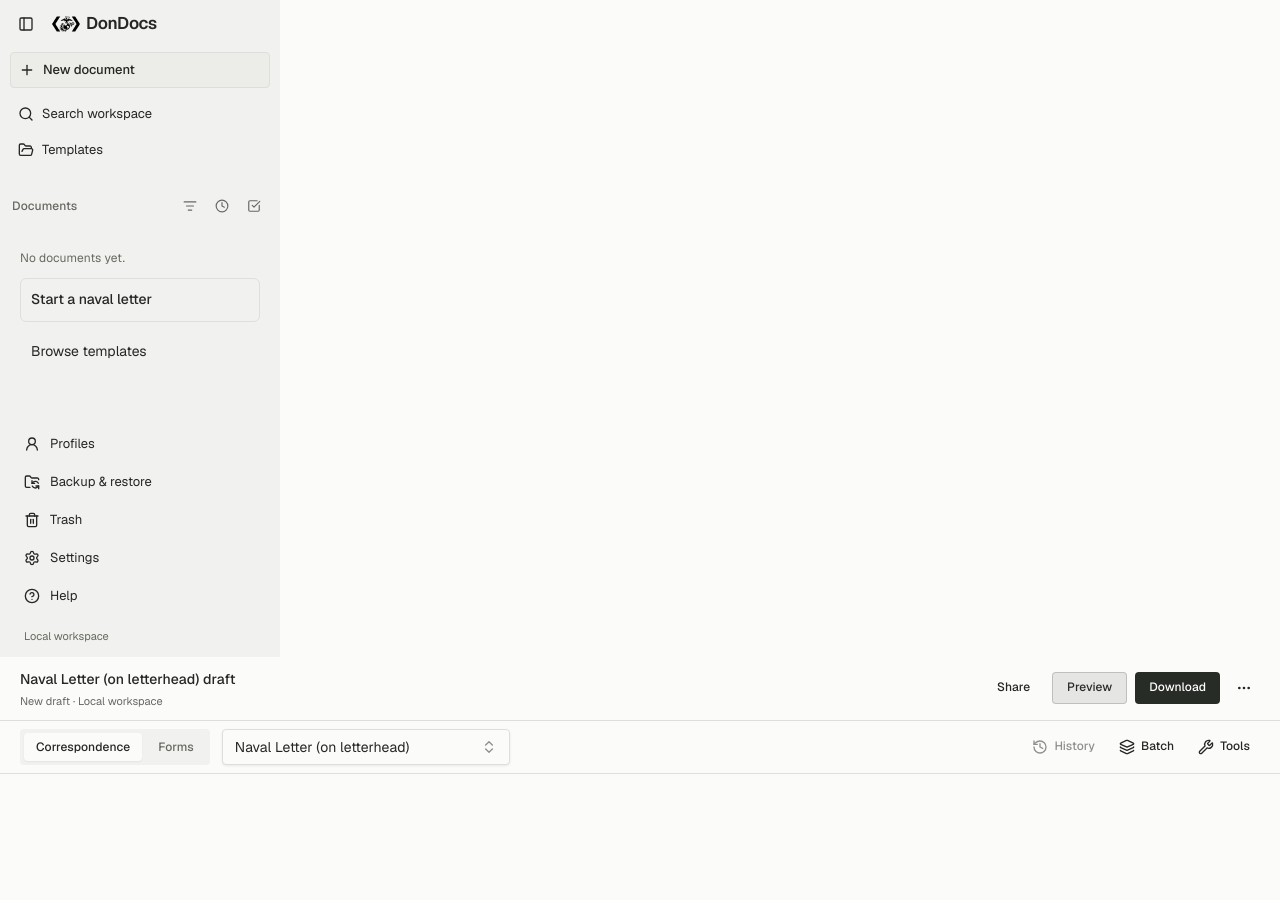
uses one focused toggle in the compact rail and restores its width and local filter
Click the button named "Filter documents". click: (190, 206)
box: [176,192,204,220]
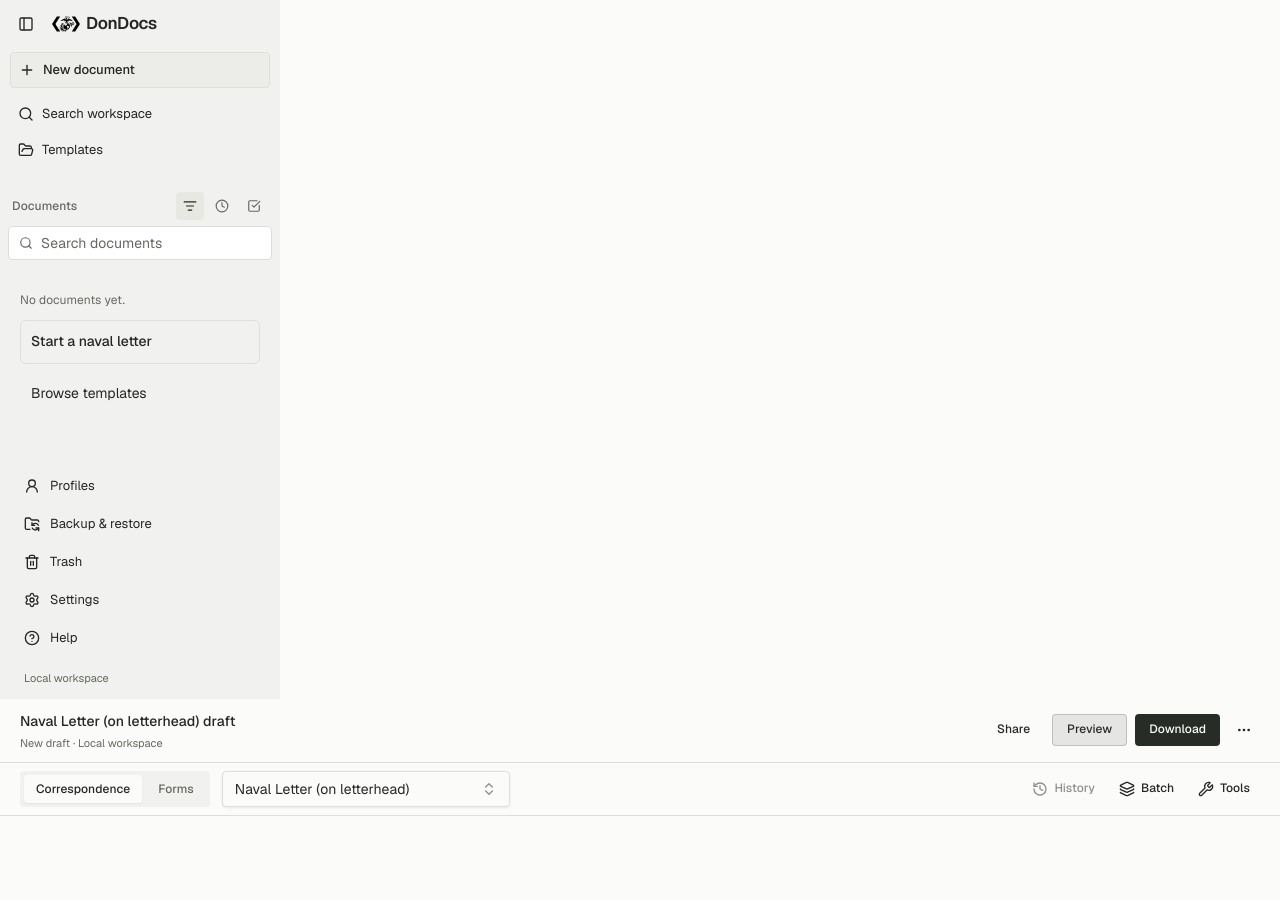
Type "Keep this filter" into the field labelled "Search documents". click: (151, 243)
box: [41,233,261,253]
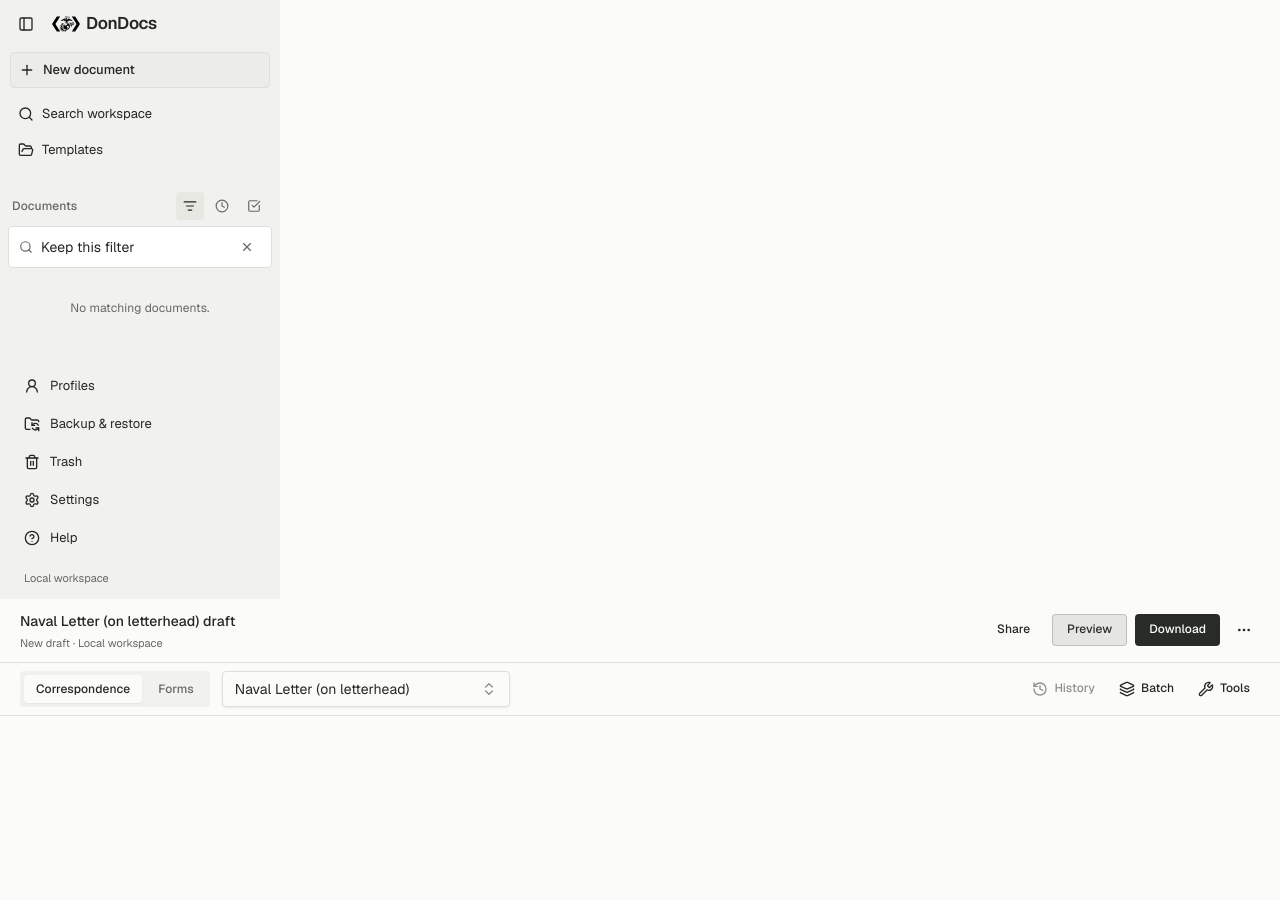
Expected: the picture named "Marine Coders" is shown, [52,10,80,38]
Click the button named "Hide sidebar". click: (26, 24)
box: [10,8,42,40]
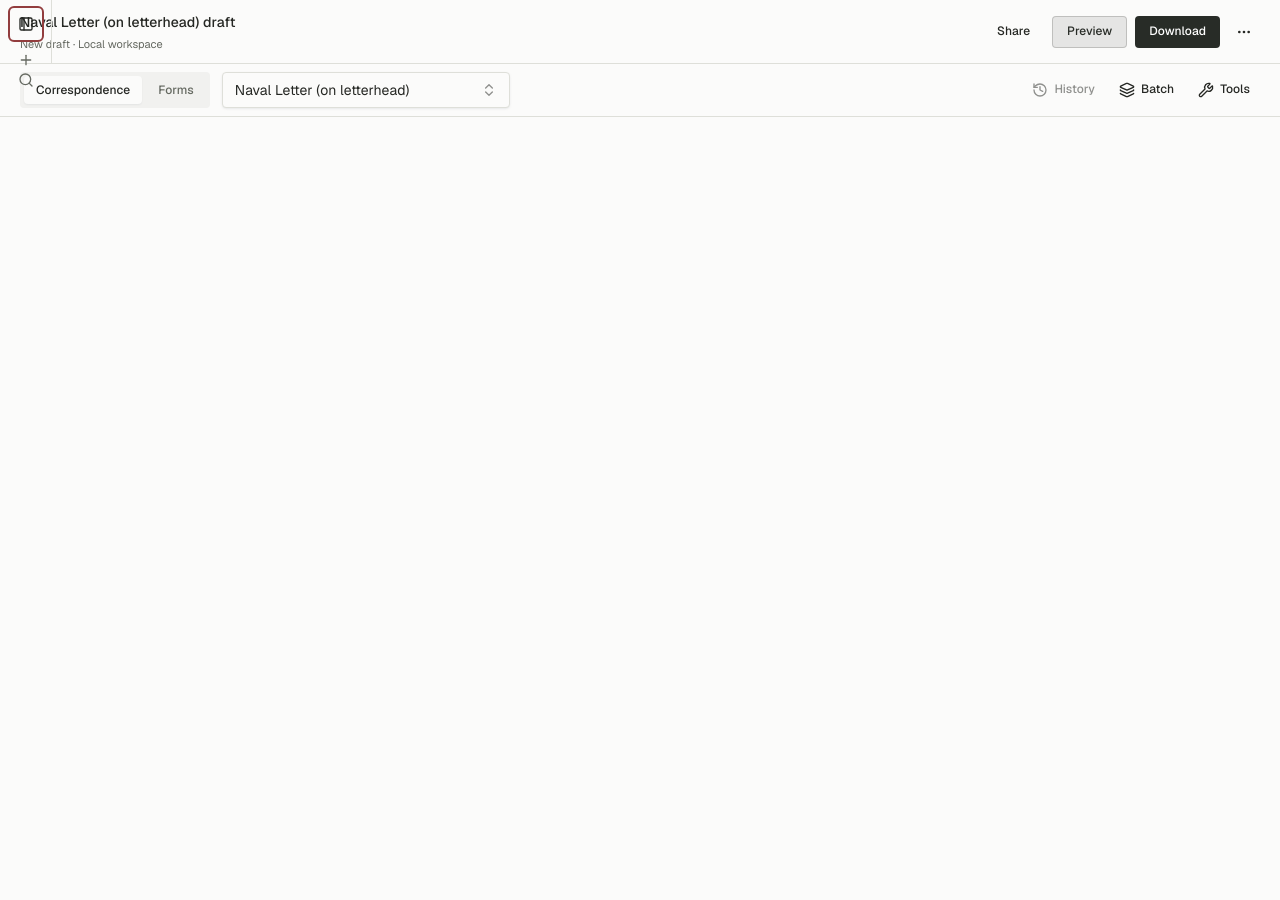
Result: the button named "Show sidebar" is collapsed at [10,8,42,40]
Result: the text "Documents" is gone
Result: the navigation bar named "Document shortcuts" is shown at [0,0,52,64]
Press Enter
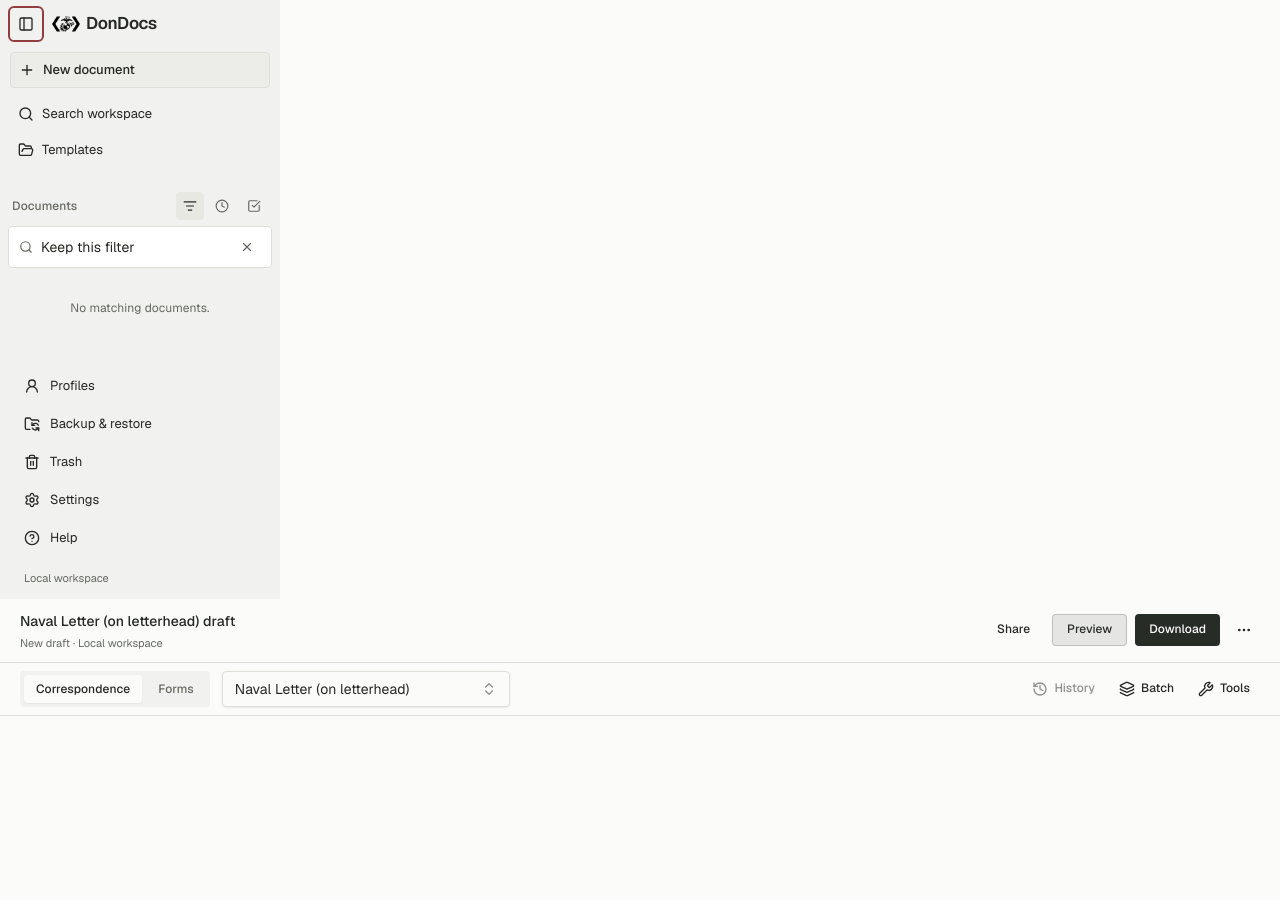
Expected: the number of buttons named "Hide sidebar" is 1, [10,8,42,40]
Result: the button named "Hide sidebar" is expanded at [10,8,42,40]
Result: the picture named "Marine Coders" is shown at [52,10,80,38]
